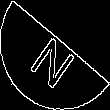N_NE: (27, 23, 83, 87)
